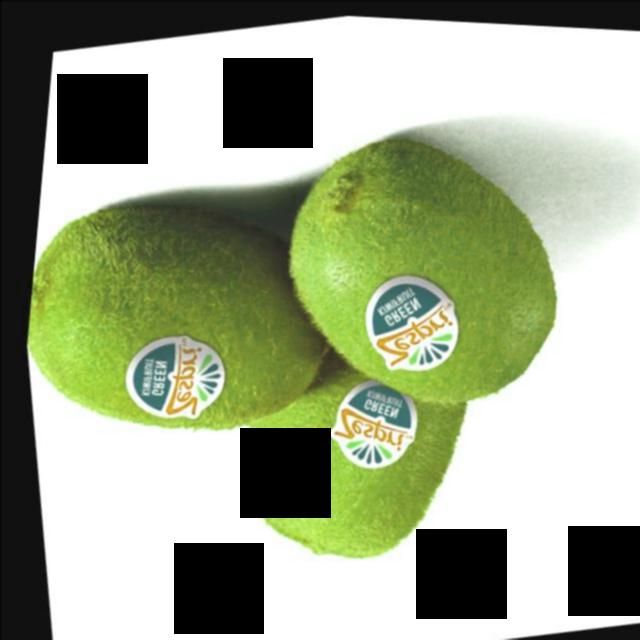kiwi: (243, 102, 582, 438), (14, 168, 346, 470), (205, 343, 510, 584)
